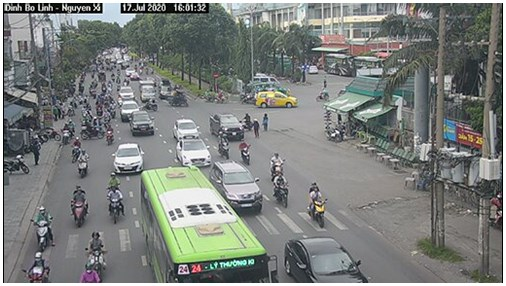xe_ba_gac: (165, 85, 190, 108)
xe_buyt: (136, 167, 278, 284)
xe_hoi: (282, 235, 371, 283), (210, 160, 263, 213), (112, 141, 144, 175), (175, 136, 211, 166), (209, 110, 245, 140), (255, 89, 301, 109), (127, 108, 155, 136), (171, 117, 198, 140), (119, 98, 140, 122)
xe_may: (32, 204, 55, 253), (85, 228, 108, 275), (309, 182, 328, 226), (105, 184, 124, 223), (25, 252, 48, 283), (71, 184, 86, 227), (272, 171, 288, 208), (270, 150, 284, 178), (238, 137, 252, 164), (216, 129, 230, 156), (77, 148, 89, 178), (71, 133, 83, 163), (58, 122, 69, 146), (103, 121, 114, 145)
